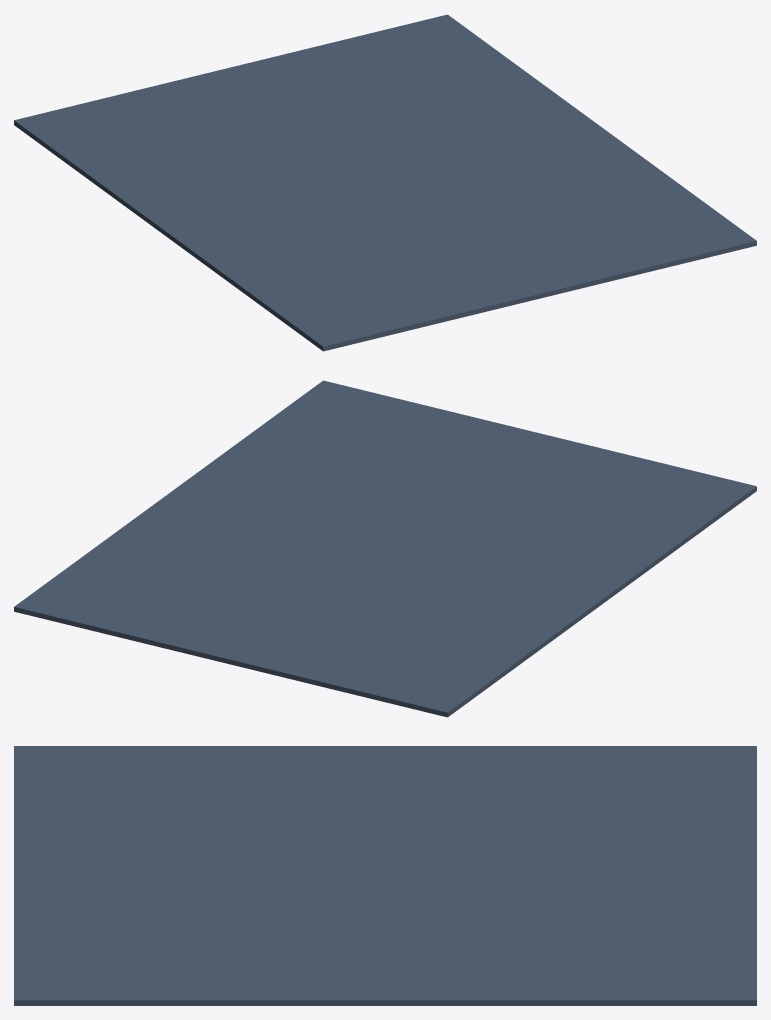
Rendered from floor_001_l_chamber_1_floor_01.obj.
The picture shows the model from 3 angles, top to bottom: view 1: azimuth 30°, elevation 25°; view 2: azimuth 150°, elevation 25°; view 3: azimuth 270°, elevation 25°; orthographic projection. The views are drawn at different scales.
Visible parts, largest first — view 1: Floor_001_l_chamber_1_floor_01; view 2: Floor_001_l_chamber_1_floor_01; view 3: Floor_001_l_chamber_1_floor_01.
Boxes of the visible parts, x1,y1,x2,y2 form: Floor_001_l_chamber_1_floor_01: (14,14,756,351); Floor_001_l_chamber_1_floor_01: (14,380,756,717); Floor_001_l_chamber_1_floor_01: (14,746,756,1005).
Size of the model in its own units: 18.89 by 0.2 by 23.33.
